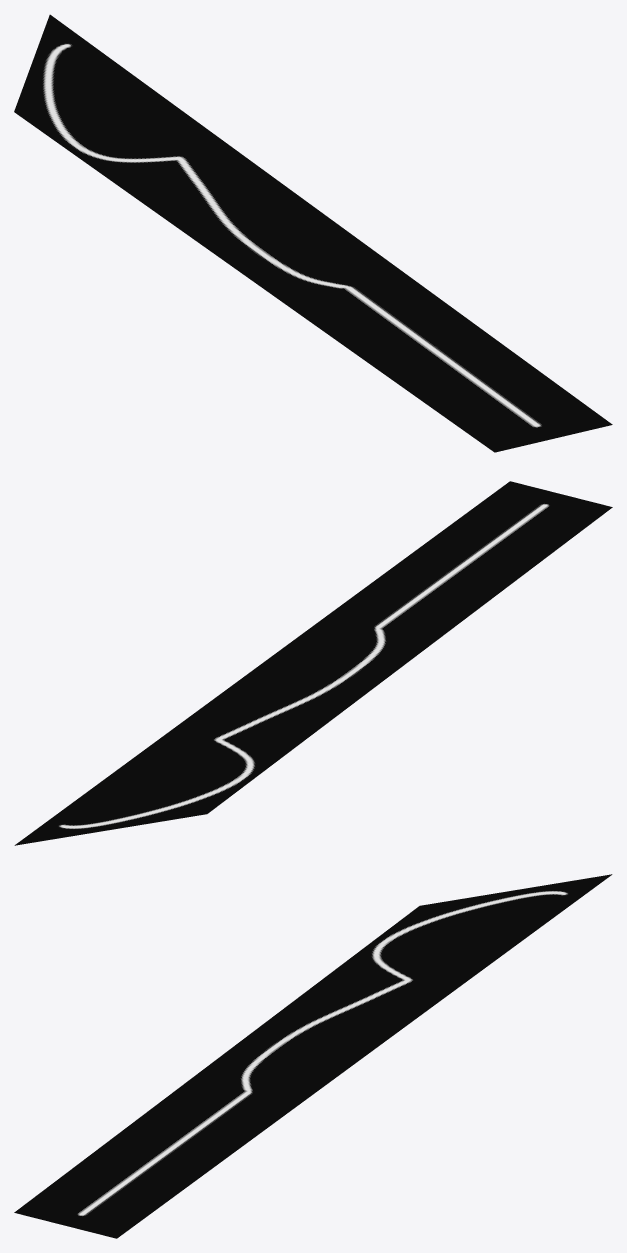
Rendered from SM_line_lump_4.fbx.
3 renders of one model, top to bottom at view 1: azimuth 30°, elevation 25°; view 2: azimuth 150°, elevation 25°; view 3: azimuth 330°, elevation 25°, orthographic. The views are drawn at different scales.
Parts seen in each view (by area): view 1: SM_line_lump_4; view 2: SM_line_lump_4; view 3: SM_line_lump_4.
Part boxes in pixels (x1,y1,x2,y2): SM_line_lump_4: [14, 14, 612, 452]; SM_line_lump_4: [14, 481, 612, 845]; SM_line_lump_4: [14, 874, 612, 1238].
Size of the model in its own units: 15.02 by 0 by 114.
